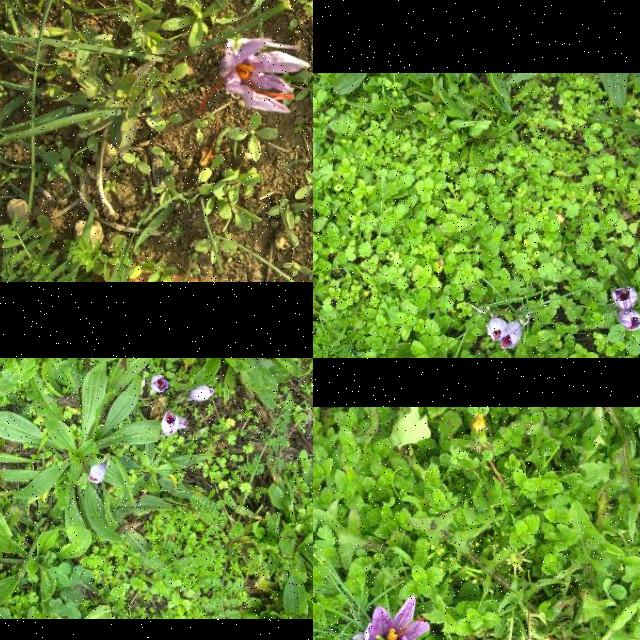flower: (365, 596, 430, 640), (499, 324, 523, 351), (612, 286, 636, 310), (160, 411, 180, 437), (487, 320, 509, 342), (617, 311, 640, 331), (188, 386, 215, 402), (89, 462, 108, 484), (151, 374, 169, 394)
